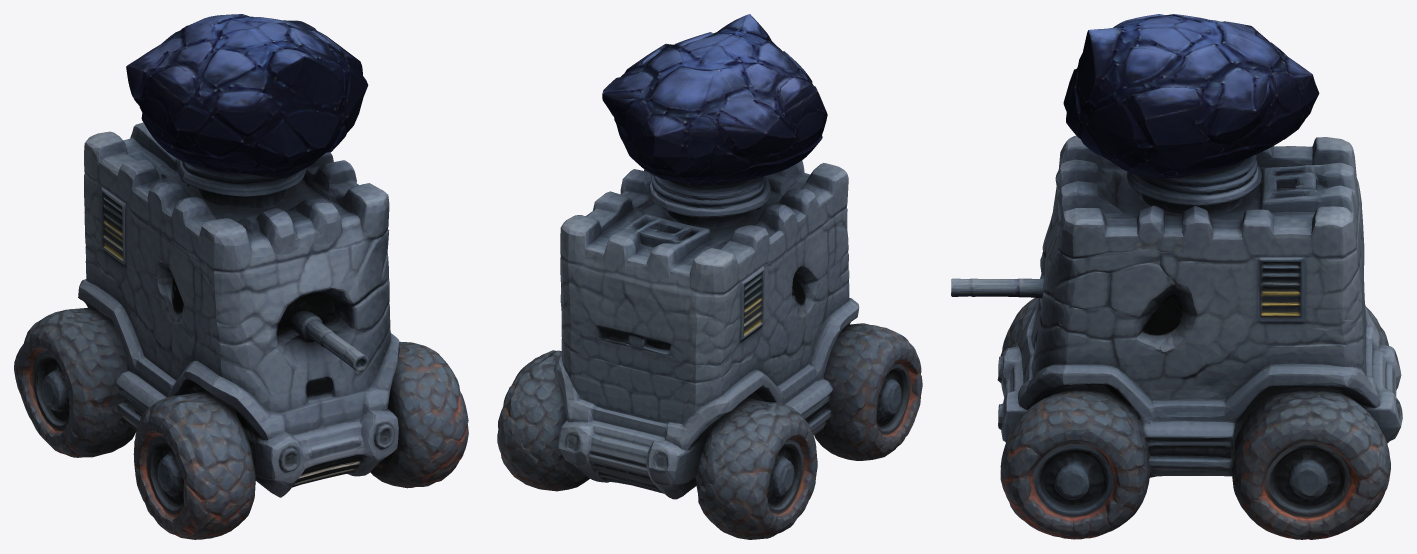
The model's file is jimeng2-2.glb.
3 renders of one model, left to right at view 1: azimuth 30°, elevation 25°; view 2: azimuth 150°, elevation 25°; view 3: azimuth 270°, elevation 25°, orthographic. The views are drawn at different scales.
Parts seen in each view (by area): view 1: world; view 2: world; view 3: world.
Part boxes in pixels (box(x1,y1,x2,y2)): world: box(14, 14, 468, 539); world: box(497, 14, 922, 539); world: box(951, 14, 1402, 539).
Size of the model in its own units: 0.6701 by 0.9992 by 0.9014.
Materials: 1 (1 with a texture image).
